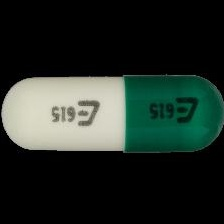67046-282: (0, 0, 224, 224)
